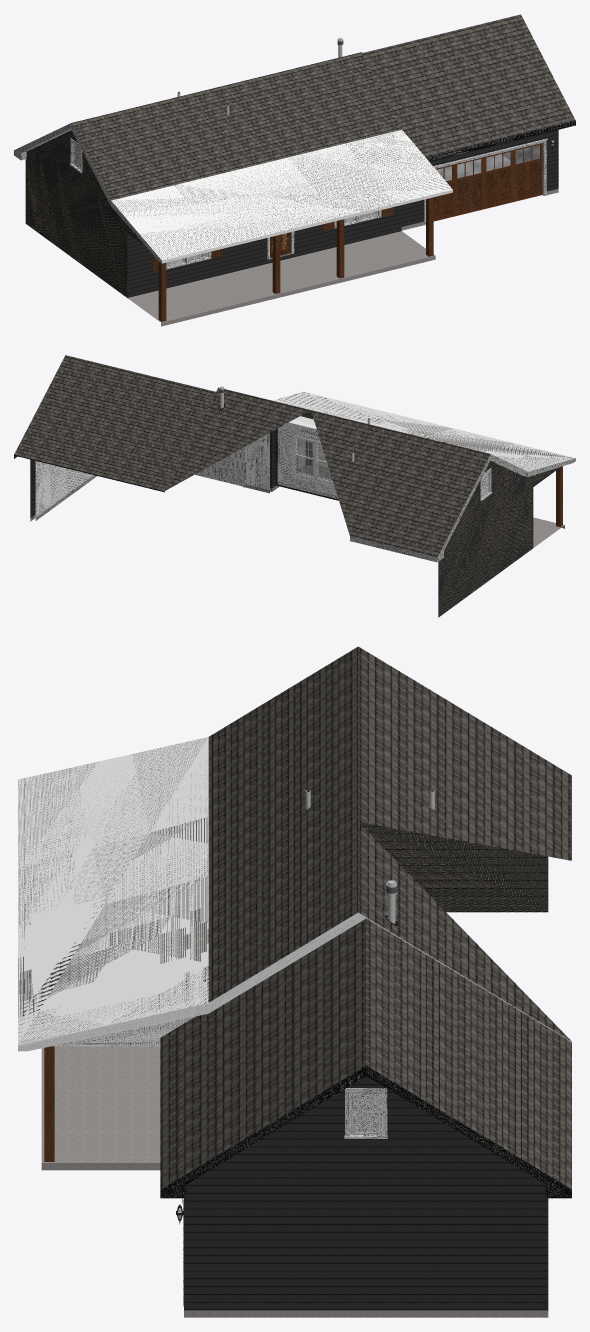
File: ev dış.dae
3 renders of one model, top to bottom at view 1: azimuth 30°, elevation 25°; view 2: azimuth 150°, elevation 25°; view 3: azimuth 270°, elevation 25°, orthographic. The views are drawn at different scales.
Parts seen in each view (by area): view 1: Component_10 (×15); view 2: Component_10 (×11); view 3: Component_10 (×12).
Boxes of the visible parts, x1,y1,x2,y2 form: Component_10 (×15): (14, 14, 575, 326); Component_10 (×11): (14, 355, 575, 617); Component_10 (×12): (18, 646, 571, 1317).
Bounding box in the file's own units: 741 × 420 × 240.
18 materials, 9 textured.
